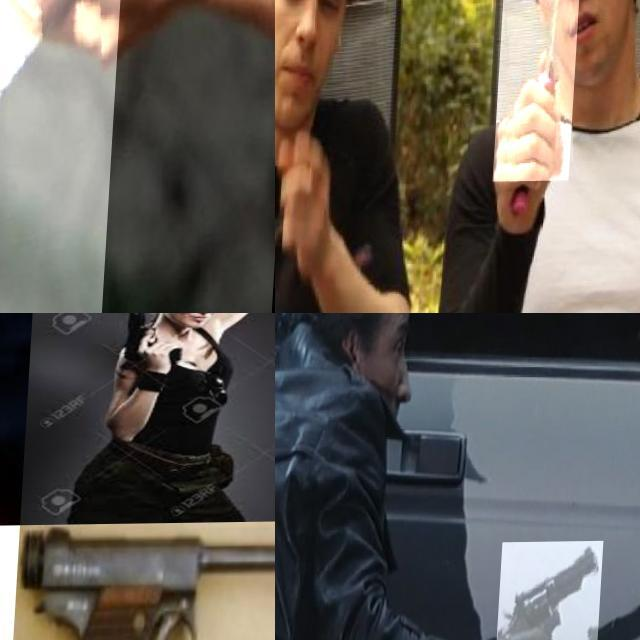-: (0, 0, 193, 313), (497, 0, 584, 182)
gun-knife-thesis - v11 Yolov5 augmented: (13, 523, 275, 640), (0, 313, 108, 460), (503, 542, 609, 640), (124, 313, 183, 364), (132, 313, 218, 334), (0, 595, 25, 626), (0, 598, 19, 616)
